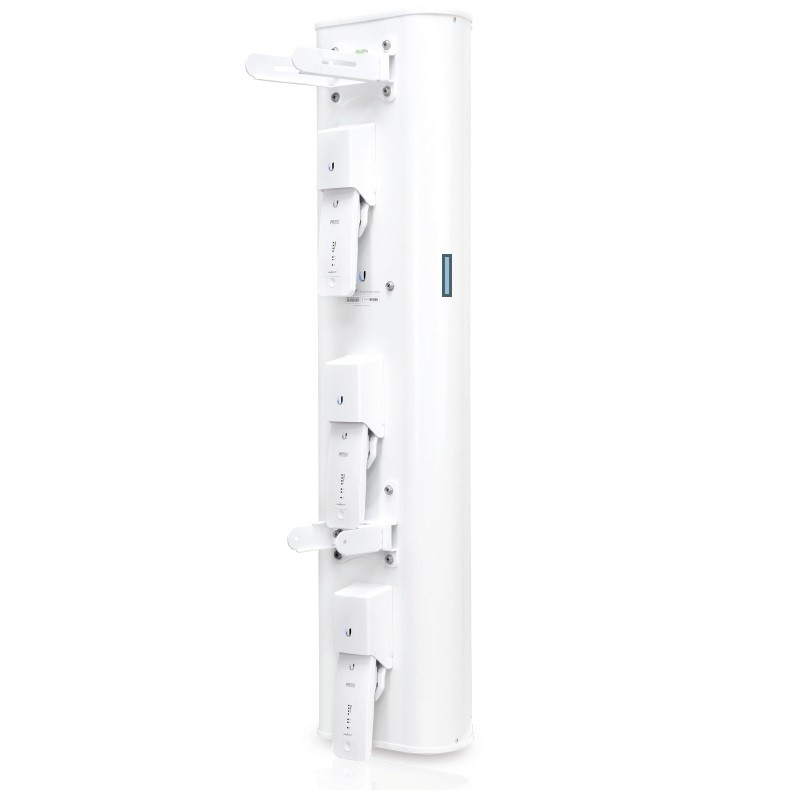sa: (224, 28, 515, 762)
